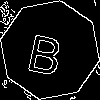B: (25, 25, 67, 77)
